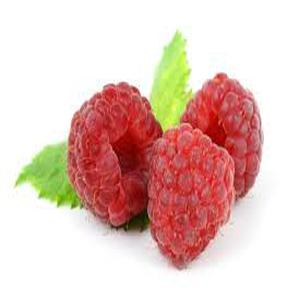raspb: (56, 54, 282, 268)
